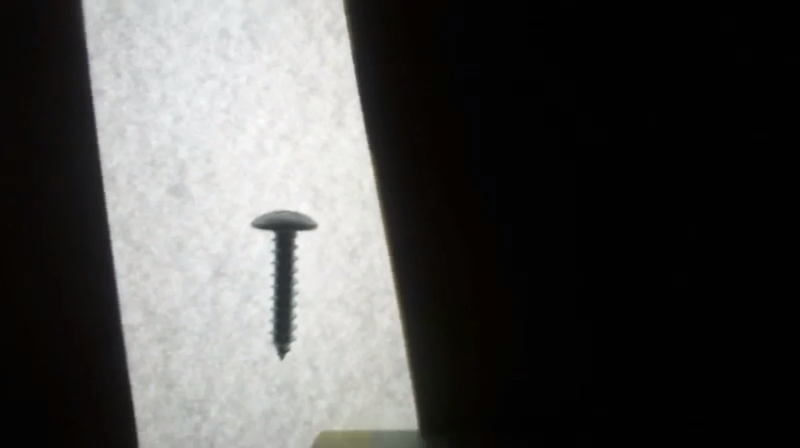S003: (247, 205, 323, 361)
